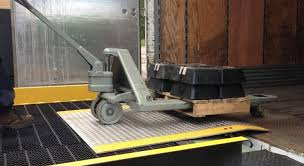Pallet Jack: (12, 1, 278, 125)
